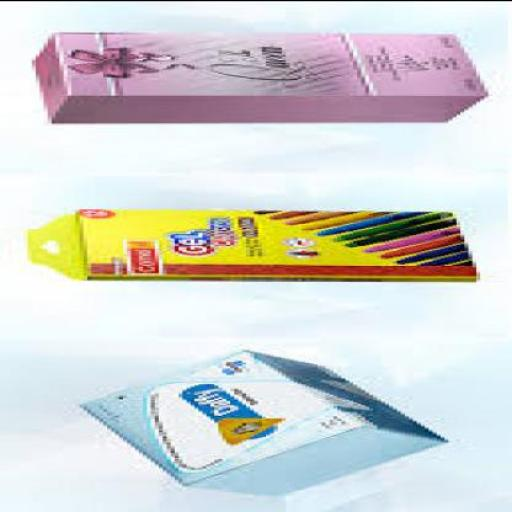cardboard: (75, 351, 444, 498), (32, 35, 484, 123), (20, 212, 476, 280)
